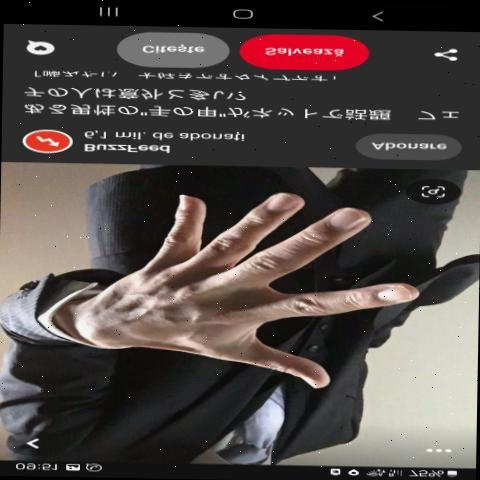Hands: (77, 166, 439, 392)
